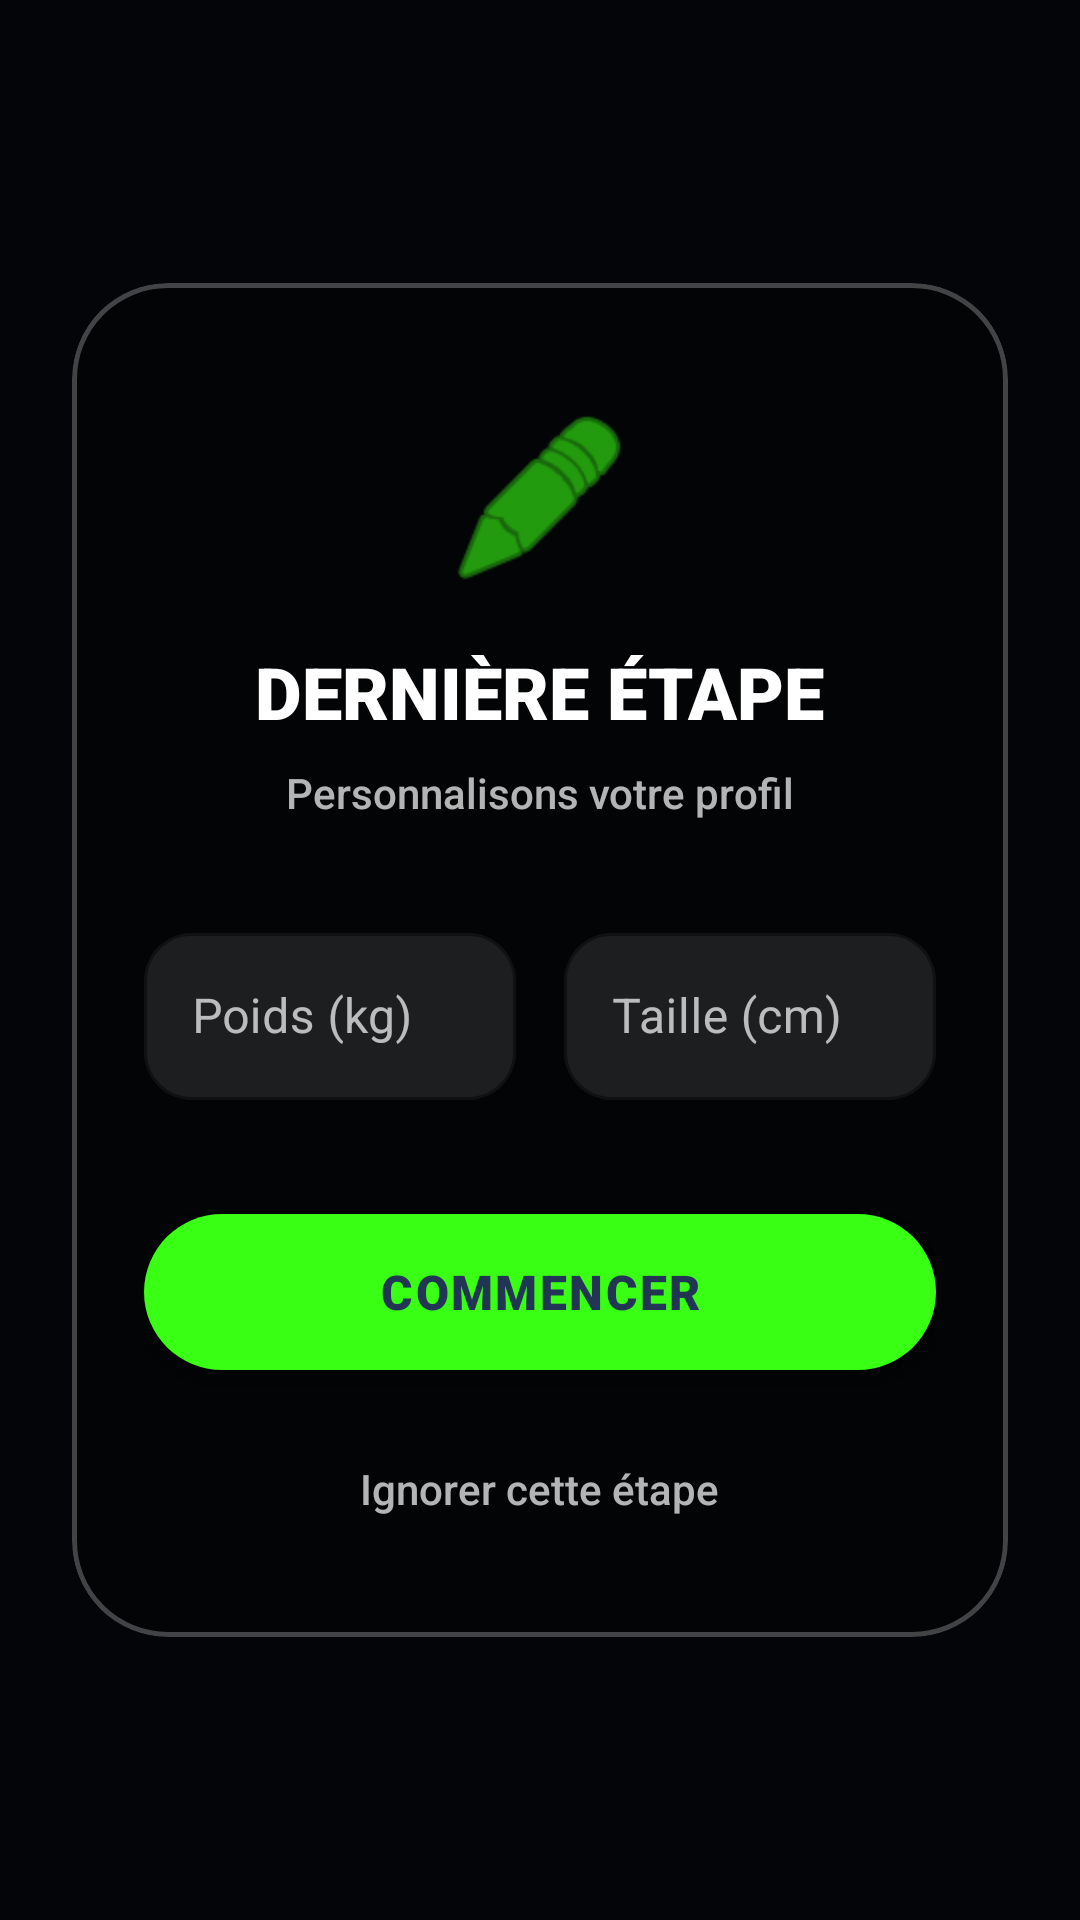

Icons on this 1080px×1920px Android screen, each with the point to tap as (x,y):
edit: (539,497)
